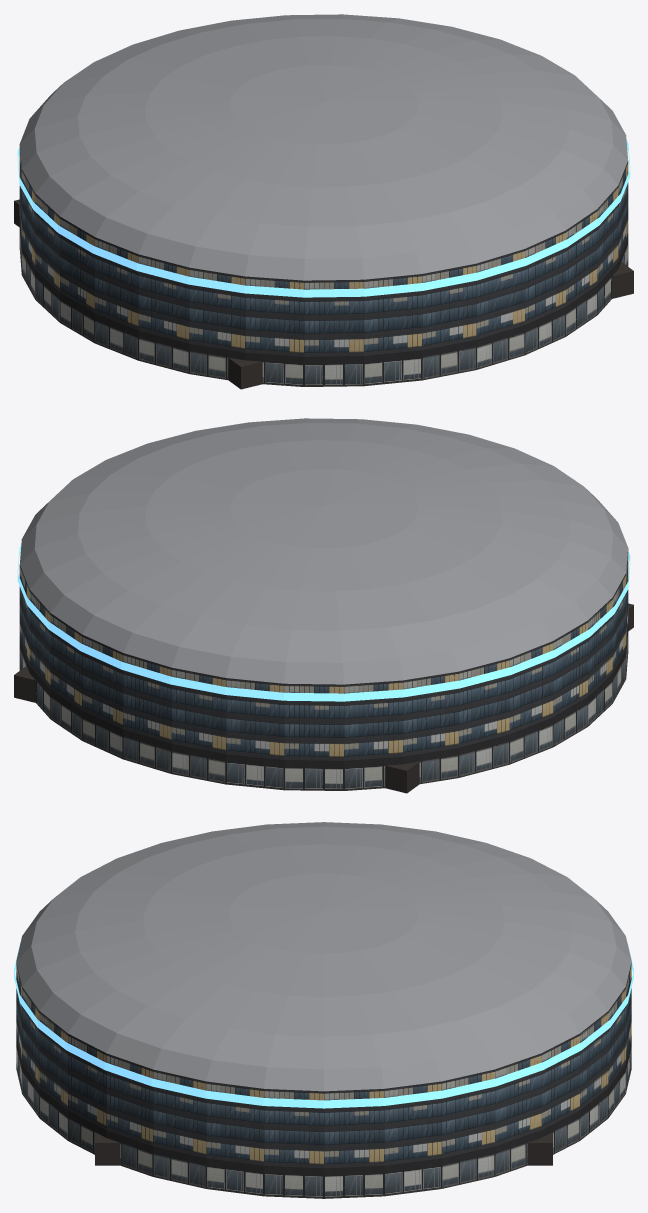
Rendered from 096_arena.glb.
The picture shows the model from 3 angles, top to bottom: view 1: azimuth 30°, elevation 25°; view 2: azimuth 150°, elevation 25°; view 3: azimuth 270°, elevation 25°; orthographic projection.
Visible parts, largest first — view 1: 096_arena; view 2: 096_arena; view 3: 096_arena.
Boxes of the visible parts, x1=… form: 096_arena: x1=14, y1=14, x2=633, y2=389; 096_arena: x1=14, y1=418, x2=633, y2=793; 096_arena: x1=14, y1=822, x2=633, y2=1198.
Bounding box in the file's own units: 111 × 31.1 × 111.
Materials: 5 (2 with a texture image).
